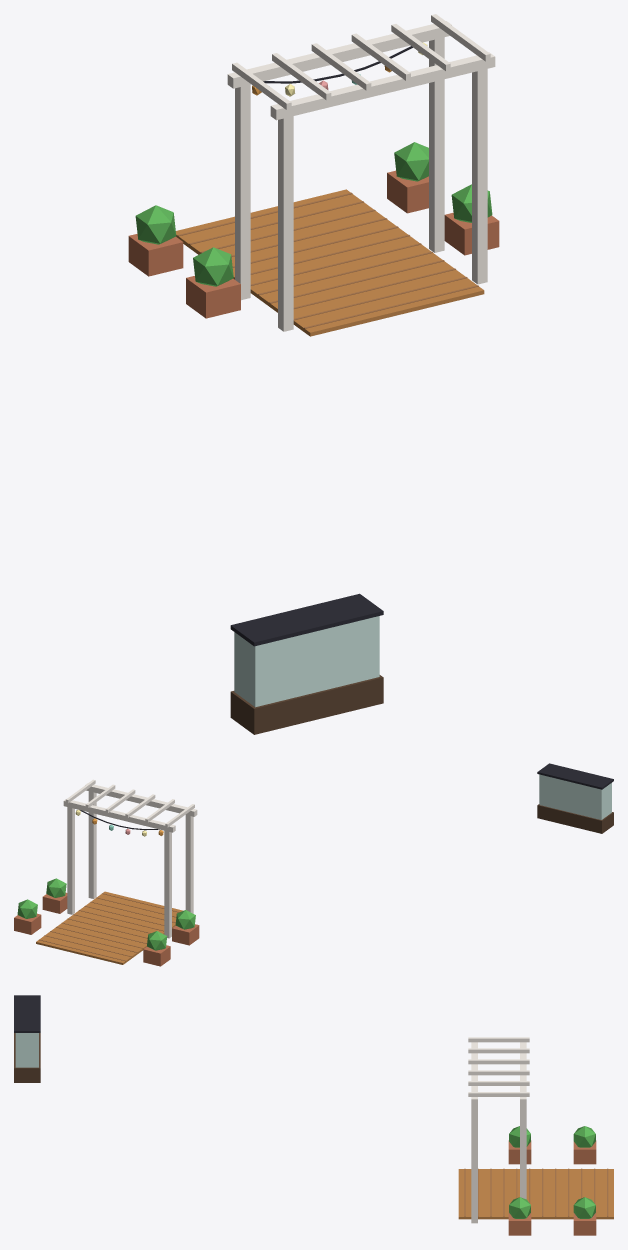
The model's file is CatCafe_Plot_Tier4.glb.
3 views of the same model, one above another, from view 1: azimuth 30°, elevation 25°; view 2: azimuth 150°, elevation 25°; view 3: azimuth 270°, elevation 25° (orthographic). The views are drawn at different scales.
Parts seen in each view (by area): view 1: CatCafe_Plot_Tier4, CatCafe_Plot_Tier4_Glass; view 2: CatCafe_Plot_Tier4, CatCafe_Plot_Tier4_Glass; view 3: CatCafe_Plot_Tier4, CatCafe_Plot_Tier4_Glass.
Boxes of the visible parts, x1,y1,x2,y2 form: CatCafe_Plot_Tier4: (128,14,499,734); CatCafe_Plot_Tier4_Glass: (234,616,379,707); CatCafe_Plot_Tier4: (14,763,613,966); CatCafe_Plot_Tier4_Glass: (539,774,611,819); CatCafe_Plot_Tier4: (14,995,613,1235); CatCafe_Plot_Tier4_Glass: (15,1033,38,1067).
Bounding box in the file's own units: 27.52 × 8.85 × 37.05.
Materials: 1 (1 with a texture image).
